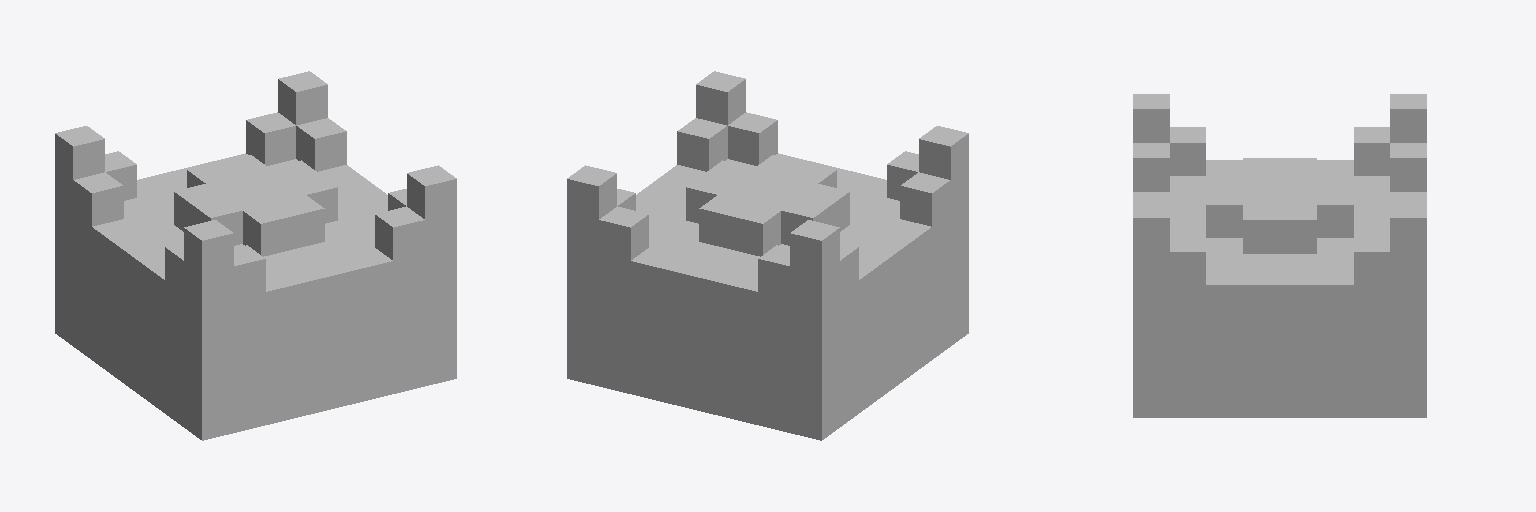
Rendered from MagicalEnchanter.obj.
3 renders of one model, left to right at view 1: azimuth 30°, elevation 25°; view 2: azimuth 150°, elevation 25°; view 3: azimuth 270°, elevation 25°, orthographic.
Visible parts, largest first — view 1: pCube1; view 2: pCube1; view 3: pCube1.
Boxes of the visible parts, <box> form: pCube1: <box>55,71,456,440</box>; pCube1: <box>567,71,968,440</box>; pCube1: <box>1133,94,1426,417</box>.
Bounding box in the file's own units: 1 × 0.75 × 1.